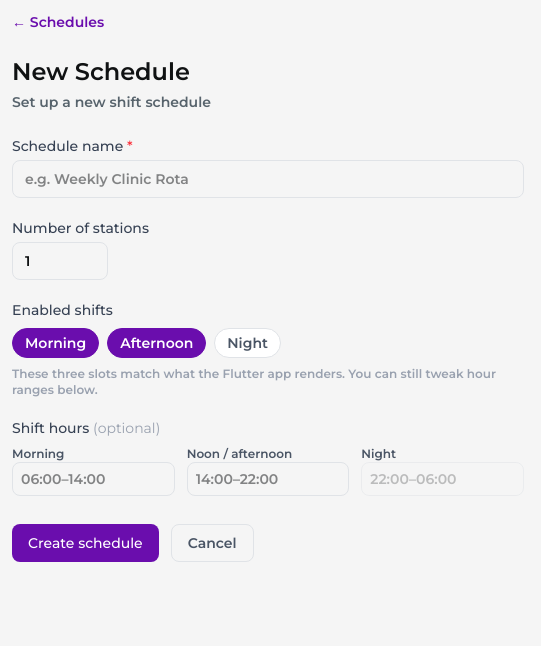
Test: NewSchedulePage › shows the required-name error when the form is submitted empty
The image size is (541, 646).
What coordinates should you click on to do the following:
click the button "Create schedule"
I would click on:
 (85, 543)
Its box is left=12, top=524, right=159, bottom=562.
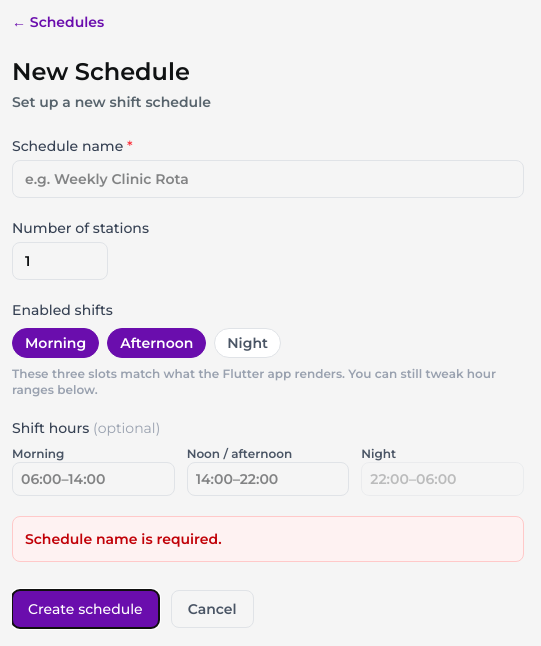
Expected: the text "Schedule name is required." is shown, left=12, top=516, right=524, bottom=562
